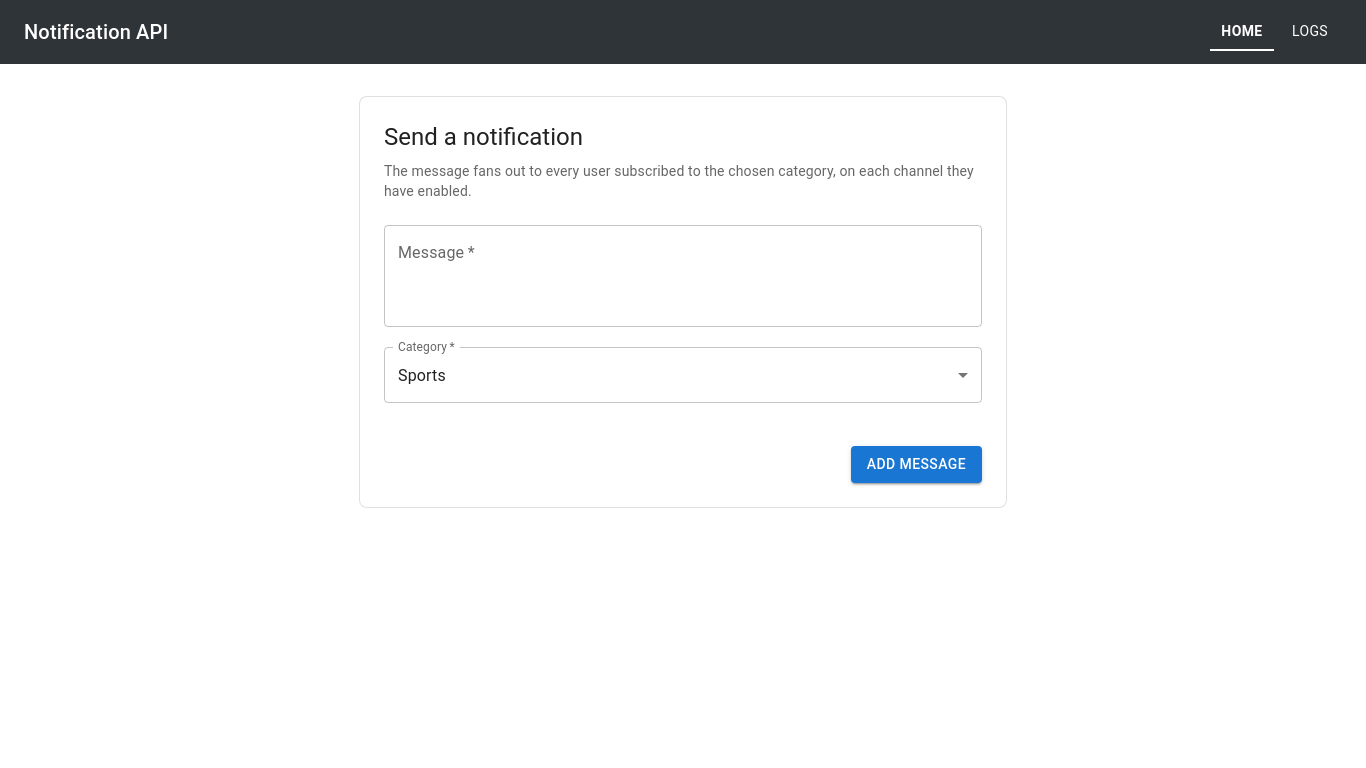
Test: AddMessage › refuses to submit an empty message
Expected: the dropdown with id "categorySelection" reads "Sports", [398,366,446,385]
Click the button "Add message". click: (916, 465)
box: [851,446,982,483]
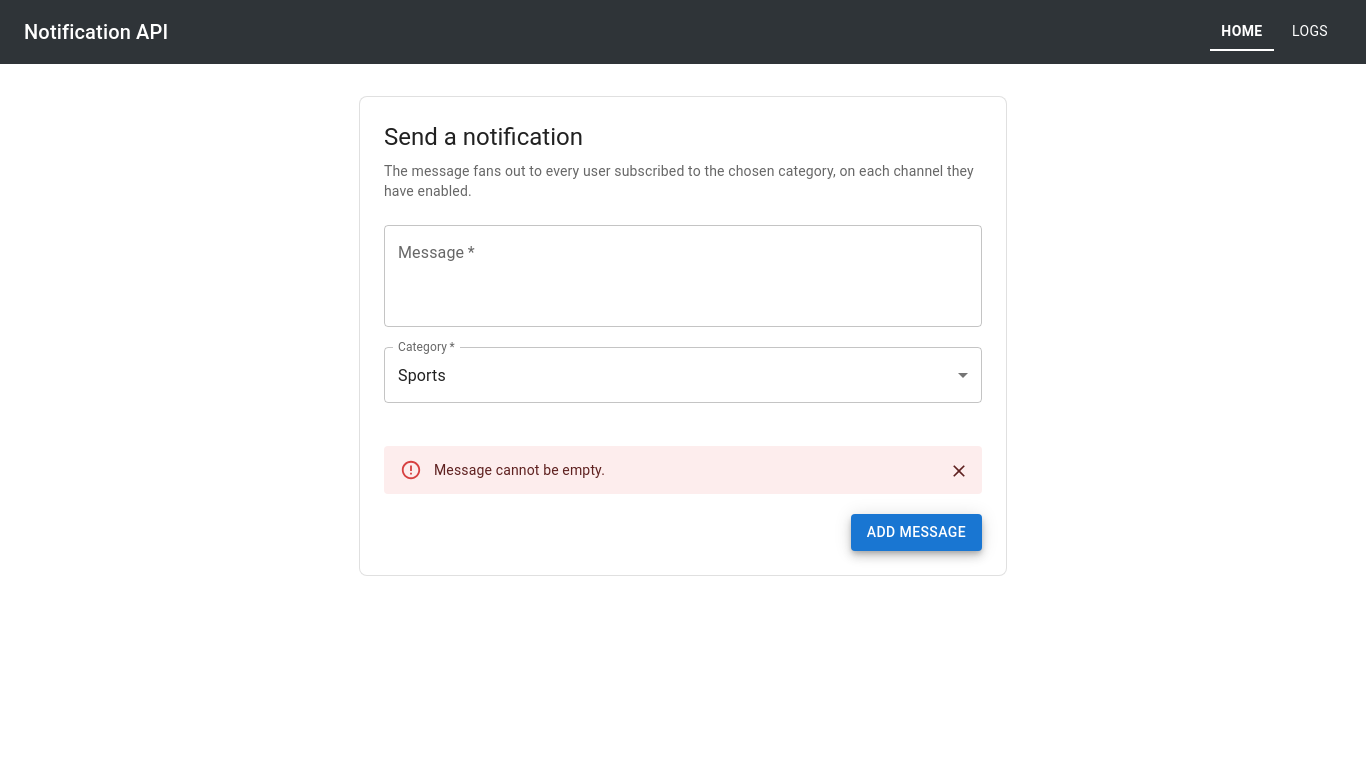
Now the text "Message cannot be empty." is shown, box [434,462,605,478]
